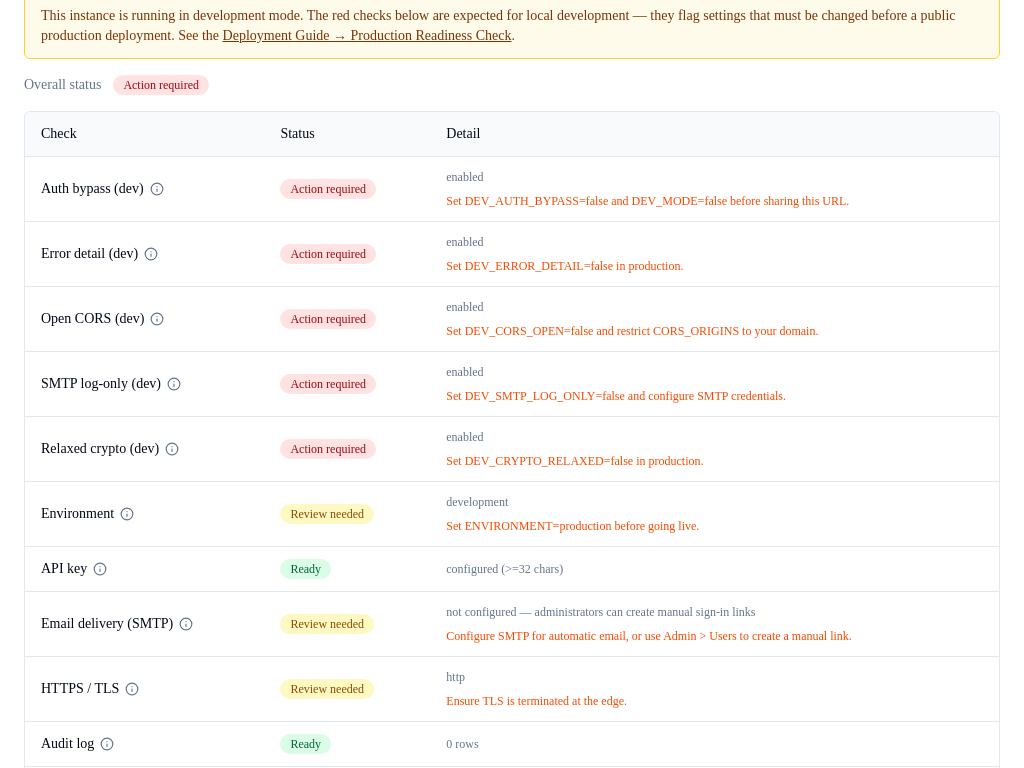
Test: AdminSystemHealthPage › describes SMTP log-only mode without claiming sign-in links are logged
(page scrolled)
Expected: the text "SMTP log-only (dev)" is shown, [41,374,161,394]
Hover over the button named "More info" next to "SMTP log-only (dev)": (174, 384) [167,377,181,391]
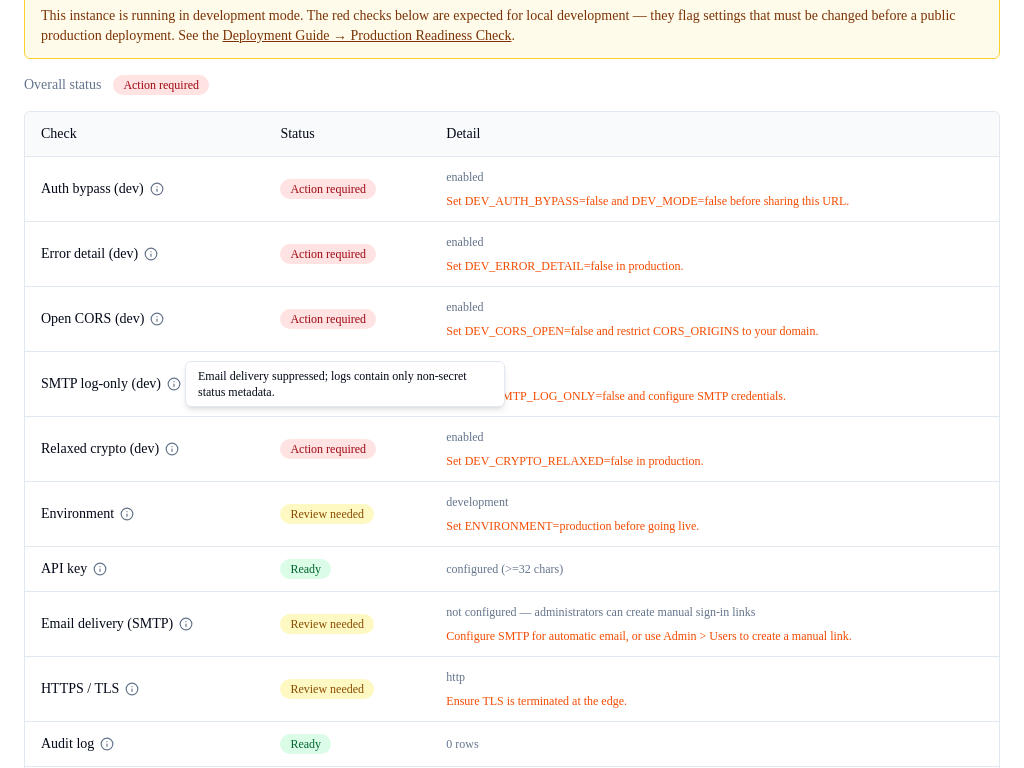
Expected: the tooltip "Email delivery suppressed; logs contain only non-secret status metadata" is shown, [198,369,467,399]
